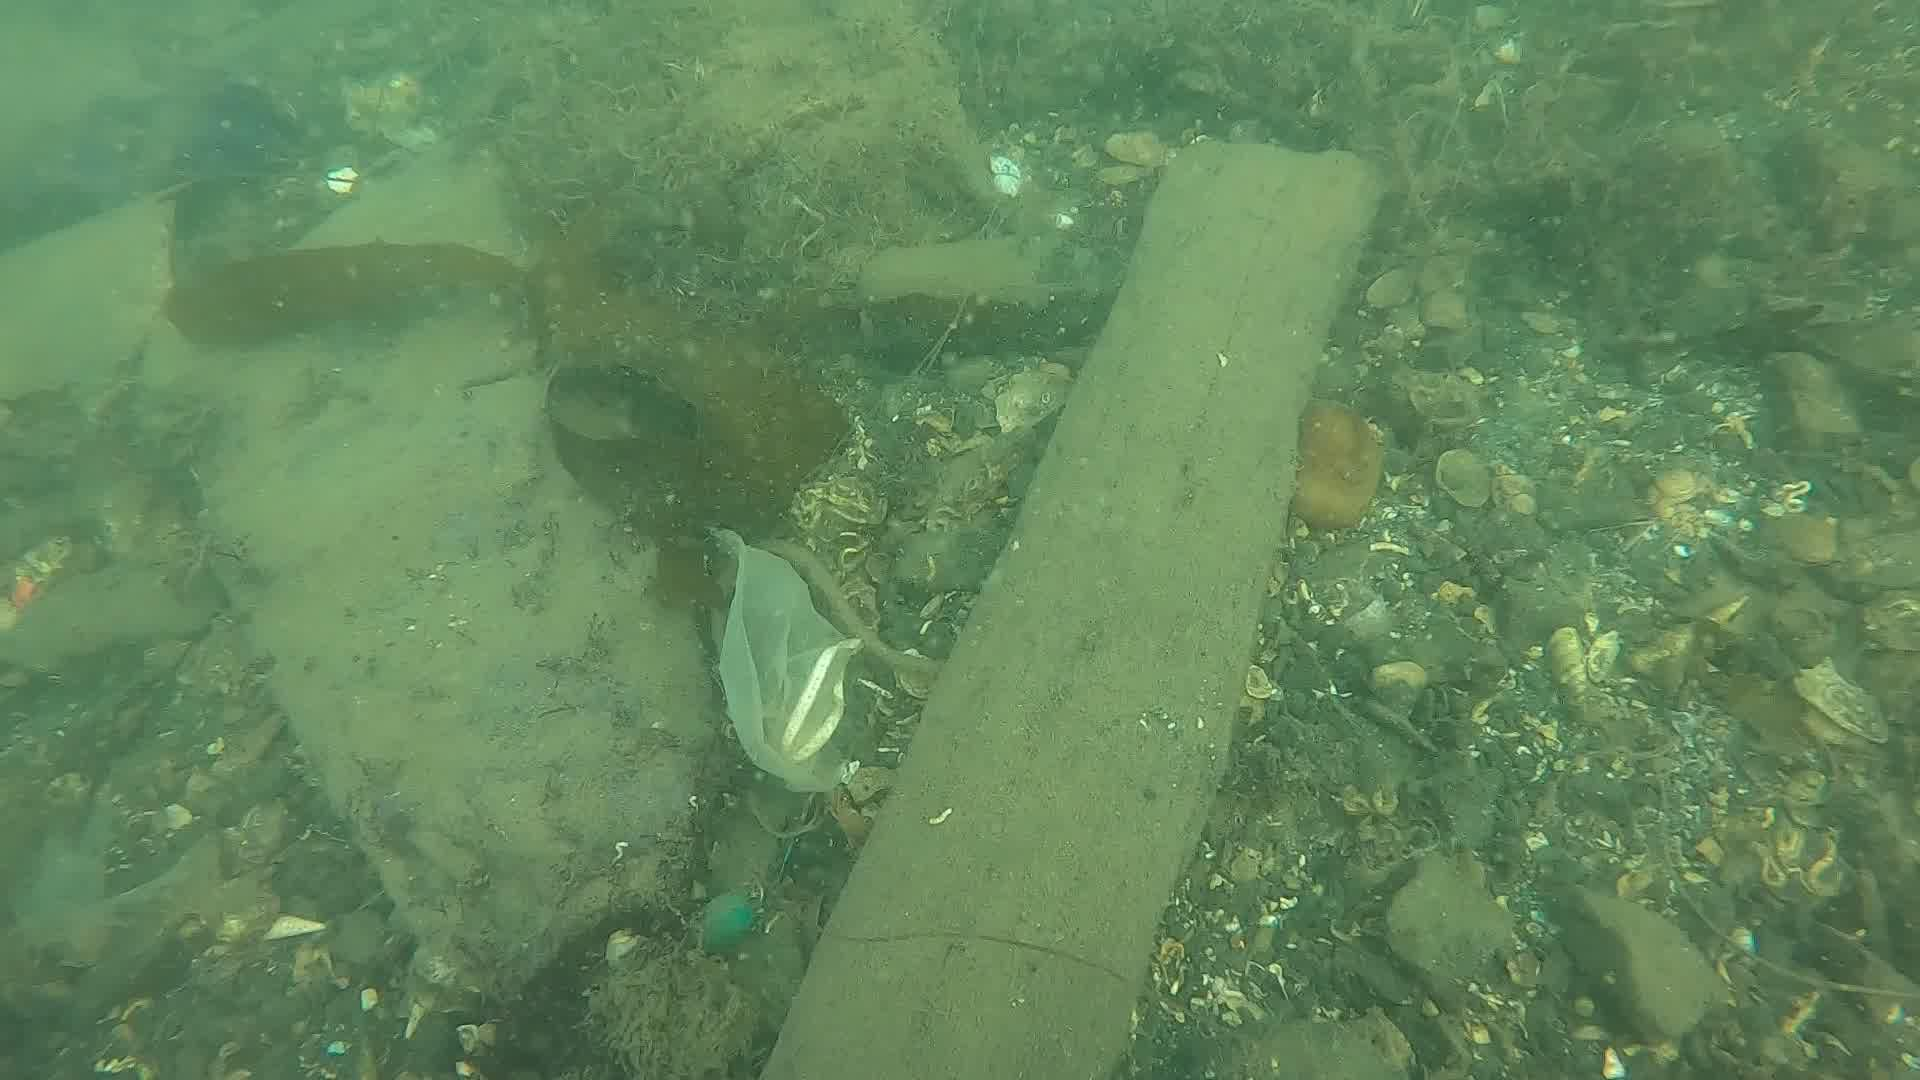wood: (756, 133, 1382, 1080)
